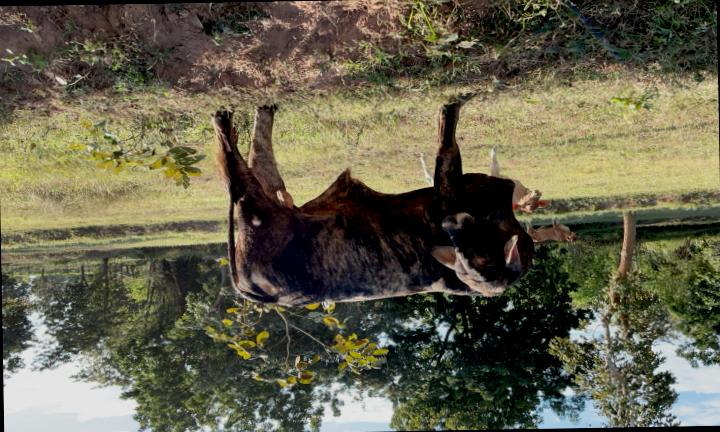Charolais: (212, 96, 533, 306)
